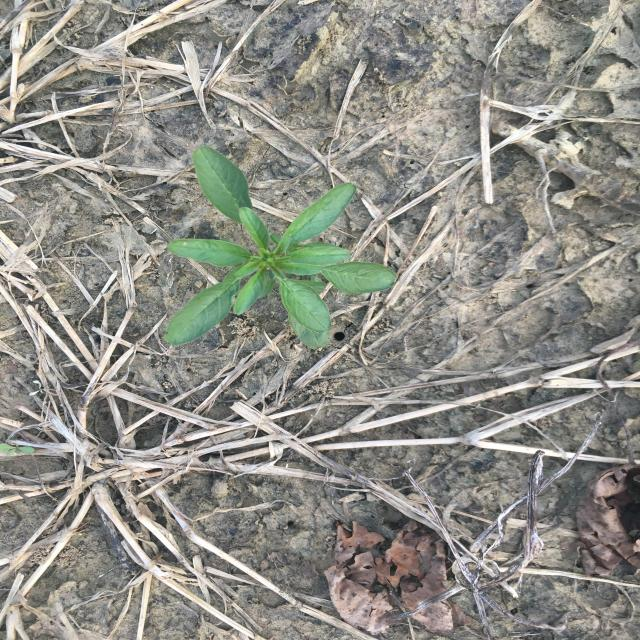Waterhemp: (158, 145, 398, 353)
